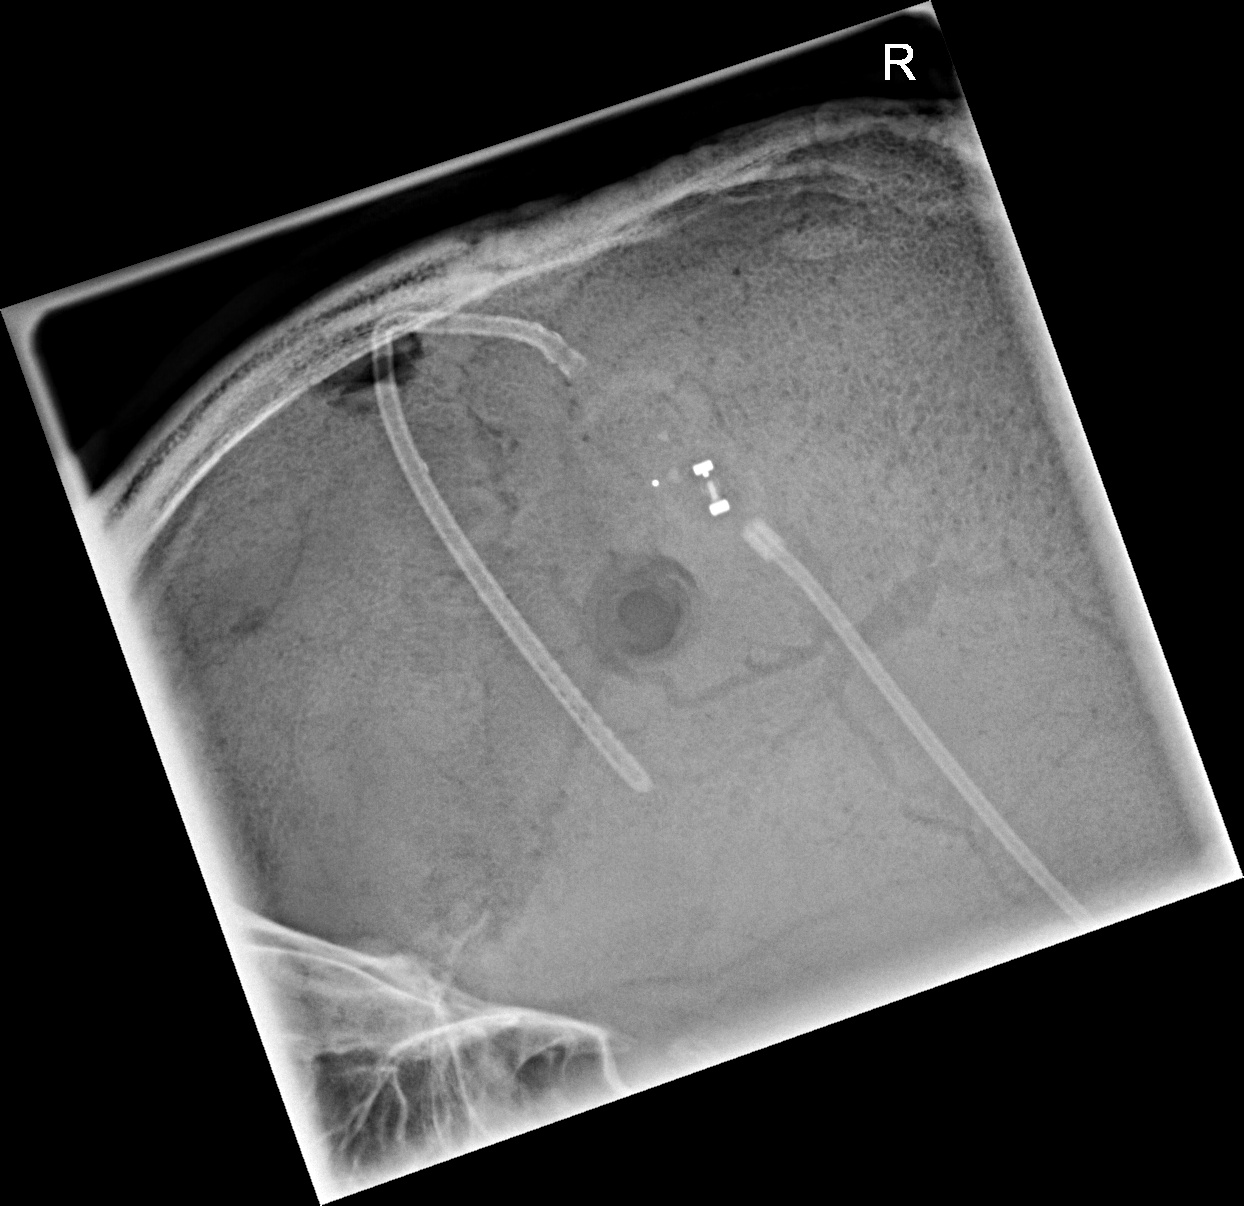Codman Certas: (635, 435, 771, 550)
